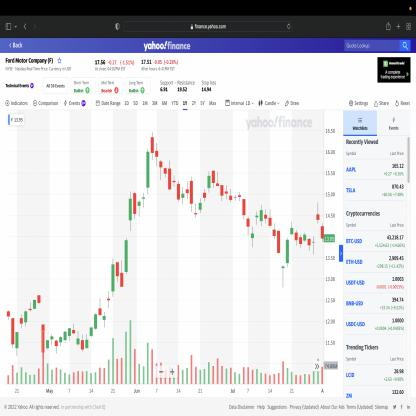Bullish Abandoned Baby: (276, 226, 290, 289), (189, 174, 203, 220)
Bullish Kicker: (119, 236, 129, 290)
